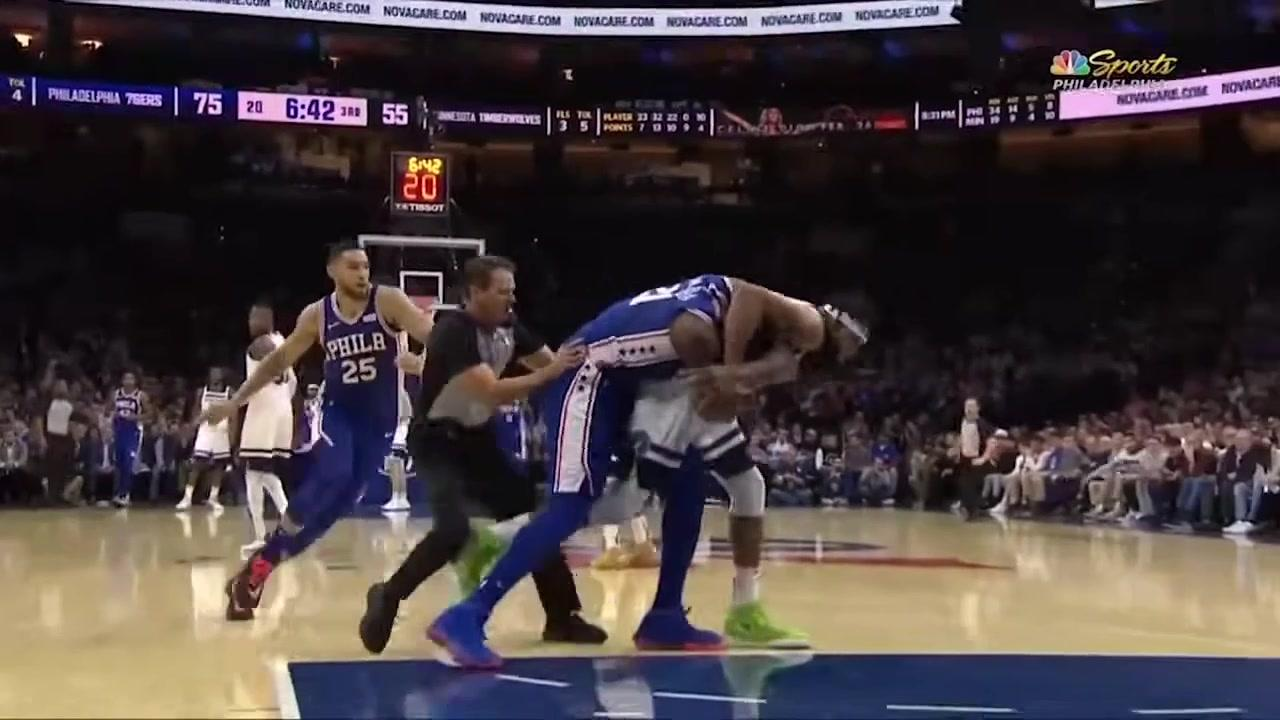foul: (494, 253, 873, 666)
